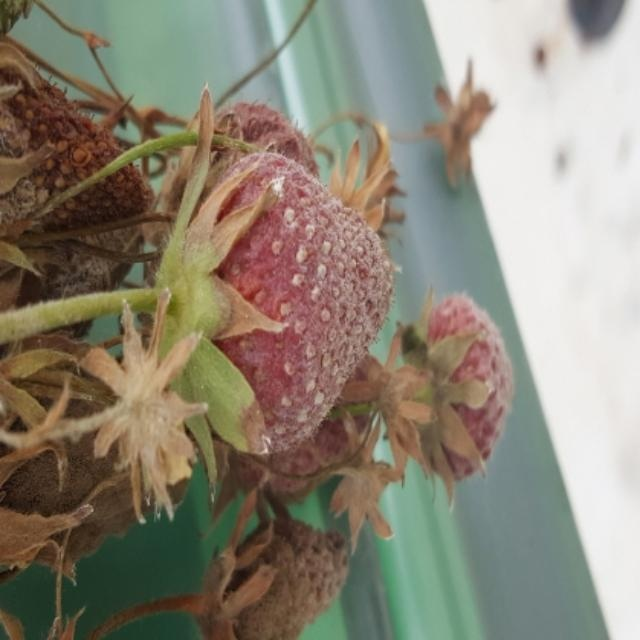Powdery Mildew Fruit: (166, 152, 401, 453), (0, 37, 155, 360), (0, 360, 198, 564), (200, 517, 351, 640)
